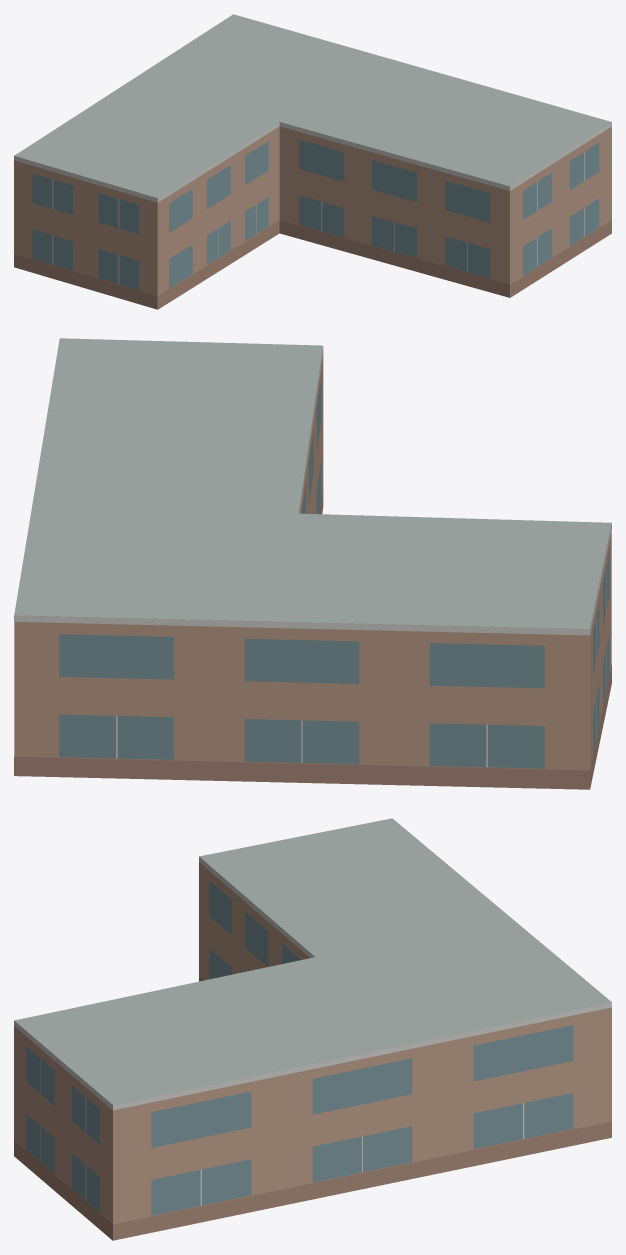
File: survey-upis-32915782.glb
3 views of the same model, one above another, from view 1: azimuth 30°, elevation 25°; view 2: azimuth 150°, elevation 25°; view 3: azimuth 270°, elevation 25° (orthographic). The views are drawn at different scales.
Visible parts, largest first — view 1: survey-upis-32915782.tmp; view 2: survey-upis-32915782.tmp; view 3: survey-upis-32915782.tmp.
Boxes of the visible parts, left/top/right/bottom form: survey-upis-32915782.tmp: left=14, top=14, right=611, bottom=309; survey-upis-32915782.tmp: left=14, top=338, right=611, bottom=789; survey-upis-32915782.tmp: left=14, top=818, right=611, bottom=1240.
Size of the model in its own units: 27.66 by 6.1 by 24.37.
